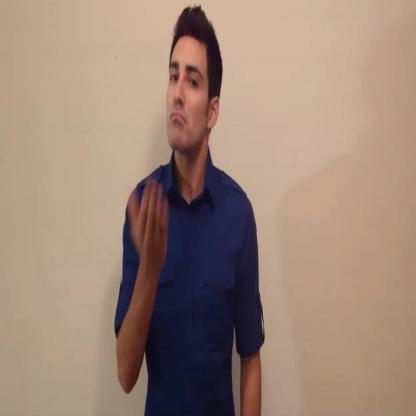ThankYou: (113, 2, 264, 416)
